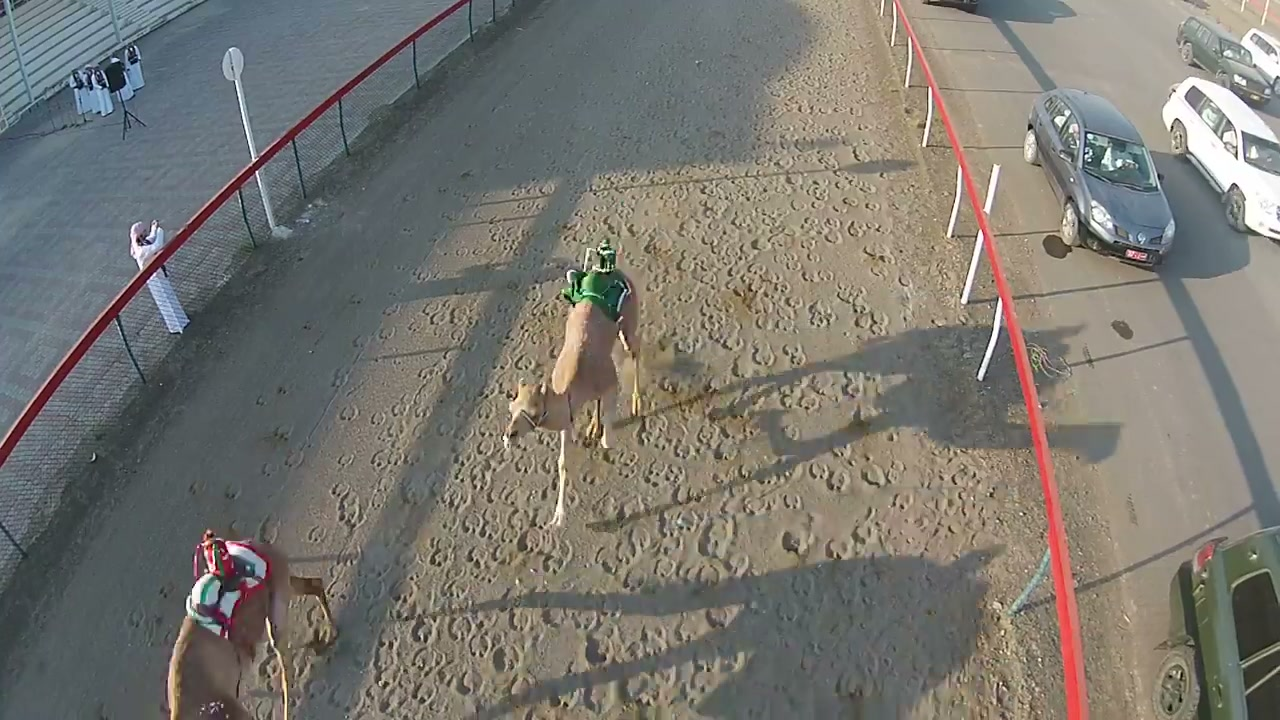animal_footprint: (196, 0, 1041, 717)
